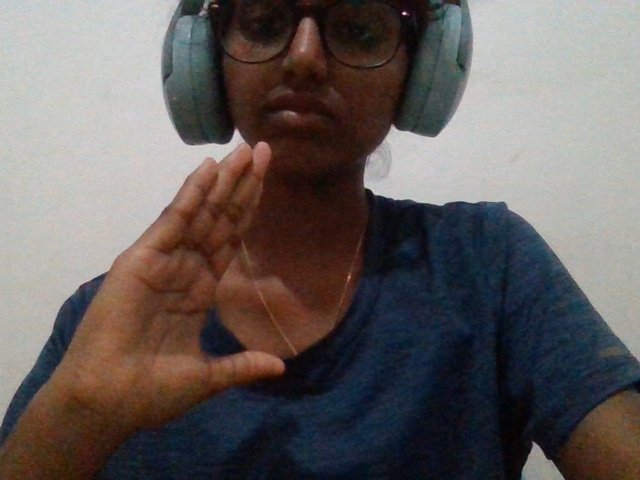Fine: (42, 125, 332, 451)
